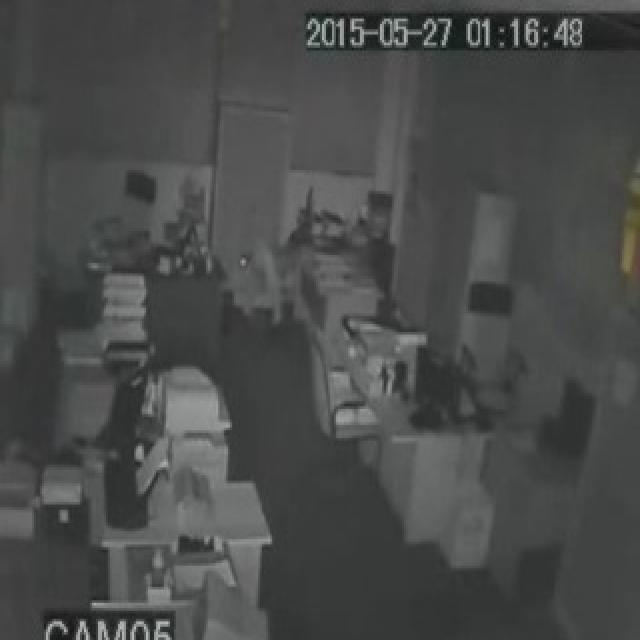thief: (233, 232, 286, 348)
